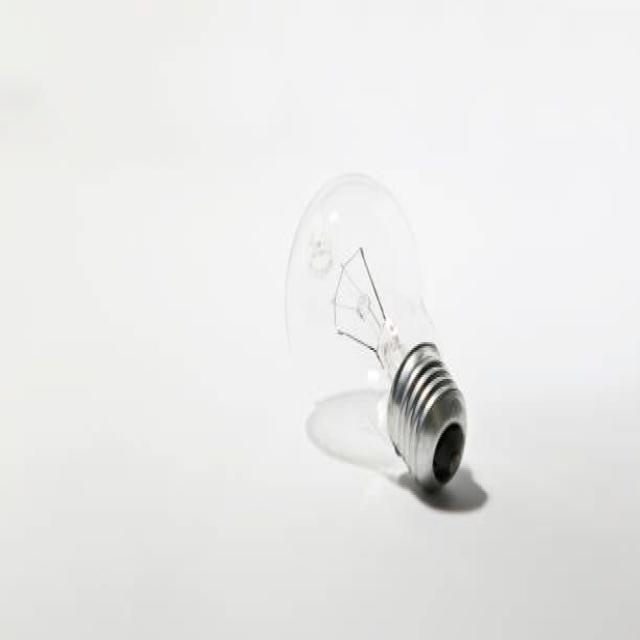electronic: (284, 168, 468, 493)
